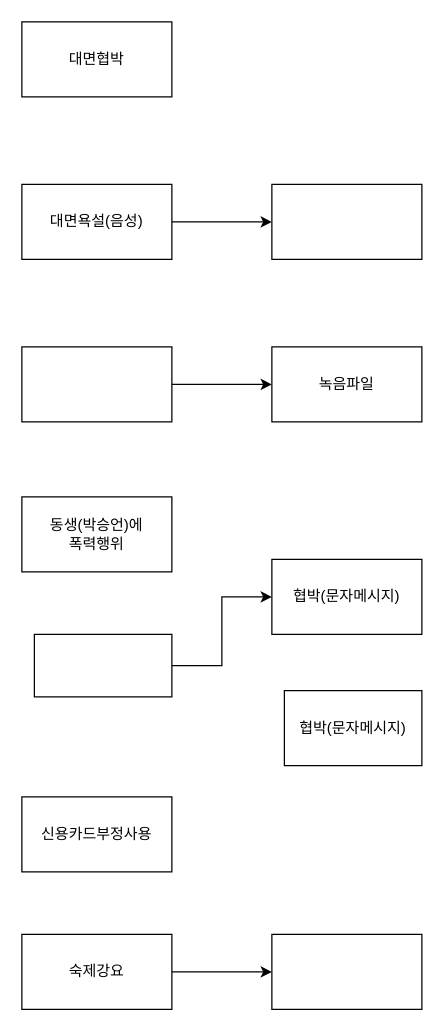
Some shapes in this 444 by 1031 pixel diagram are drawn without their labels. The shapes that lost their labels are listed below. From the top down, each one's centre as x and y in pixels, then its label:
At pixel 346 221: "다수녹음파일".
At pixel 96 384: "폭력 (방문부수기)".
At pixel 102 665: "정보통신망법 모욕등".
At pixel 346 971: "강요죄 형법 324조".
